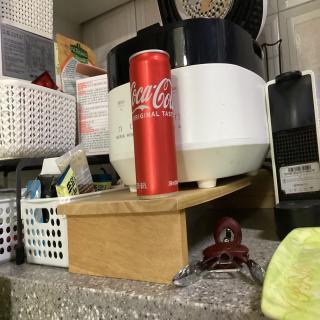cocacola: (126, 39, 184, 202)
